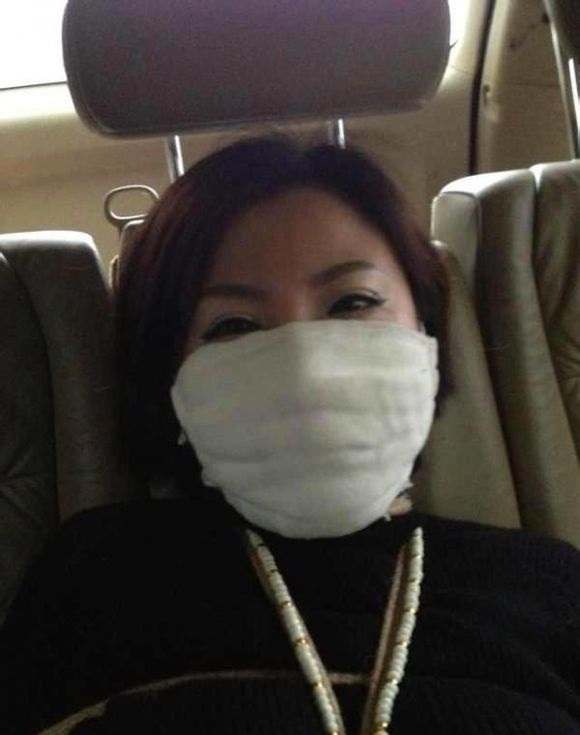face_mask: (188, 198, 423, 526)
